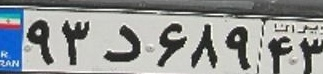character: (99, 18, 146, 68), (148, 17, 190, 69), (59, 14, 95, 69), (186, 19, 222, 72), (23, 13, 58, 67), (222, 19, 255, 73), (266, 33, 295, 74), (297, 35, 323, 74)
